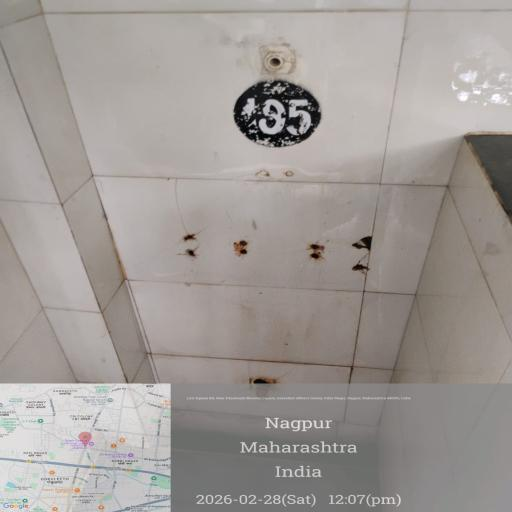clean_floor: (28, 54, 471, 480)
